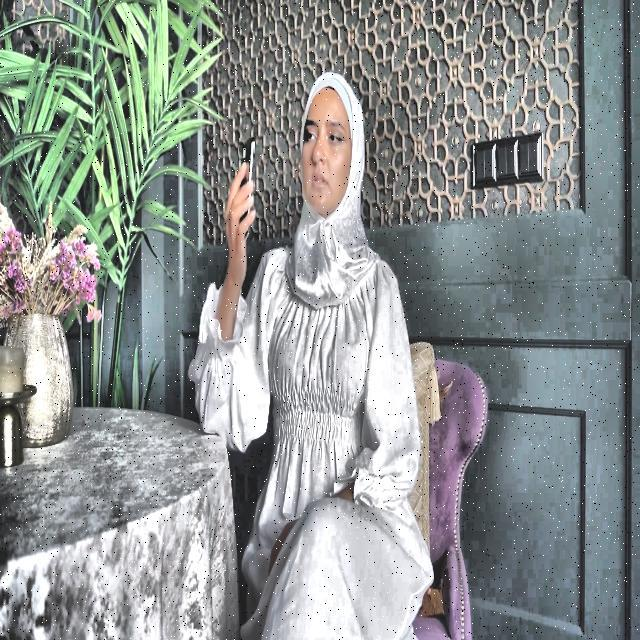Phone: (238, 137, 256, 240)
